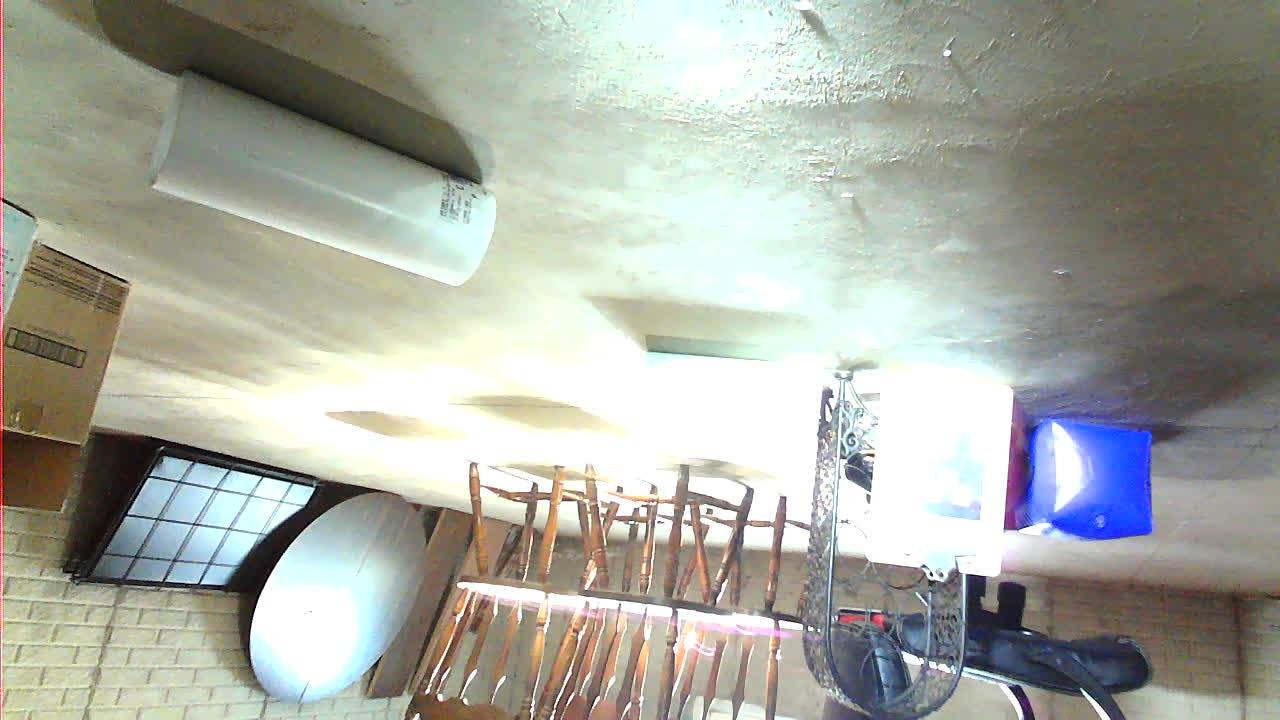coral: (780, 432, 1132, 654)
